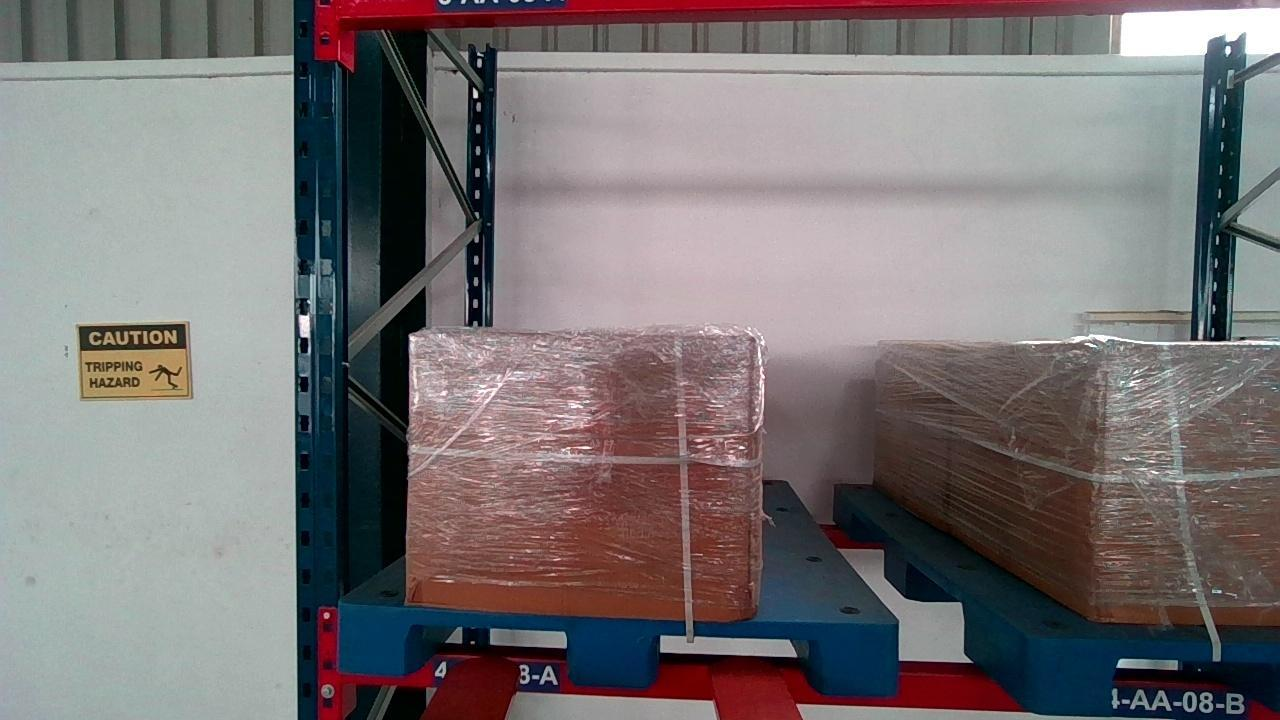h_rack: (345, 645, 1273, 720)
small_pallet: (340, 604, 893, 698)
